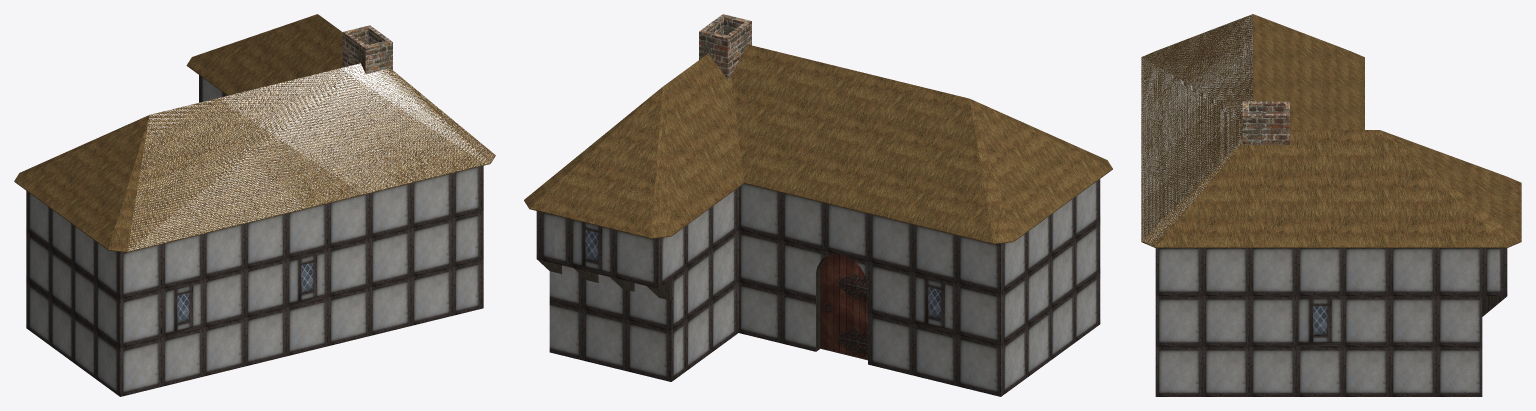
File: House3 (1).fbx
The picture shows the model from 3 angles, left to right: view 1: azimuth 30°, elevation 25°; view 2: azimuth 150°, elevation 25°; view 3: azimuth 270°, elevation 25°; orthographic projection. The views are drawn at different scales.
Visible parts, largest first — view 1: Model; view 2: Model; view 3: Model.
Part boxes in pixels (x1,y1,x2,y2): Model: [14, 14, 495, 396]; Model: [524, 14, 1112, 396]; Model: [1141, 14, 1521, 396].
Bounding box in the file's own units: 996 × 608 × 817.
